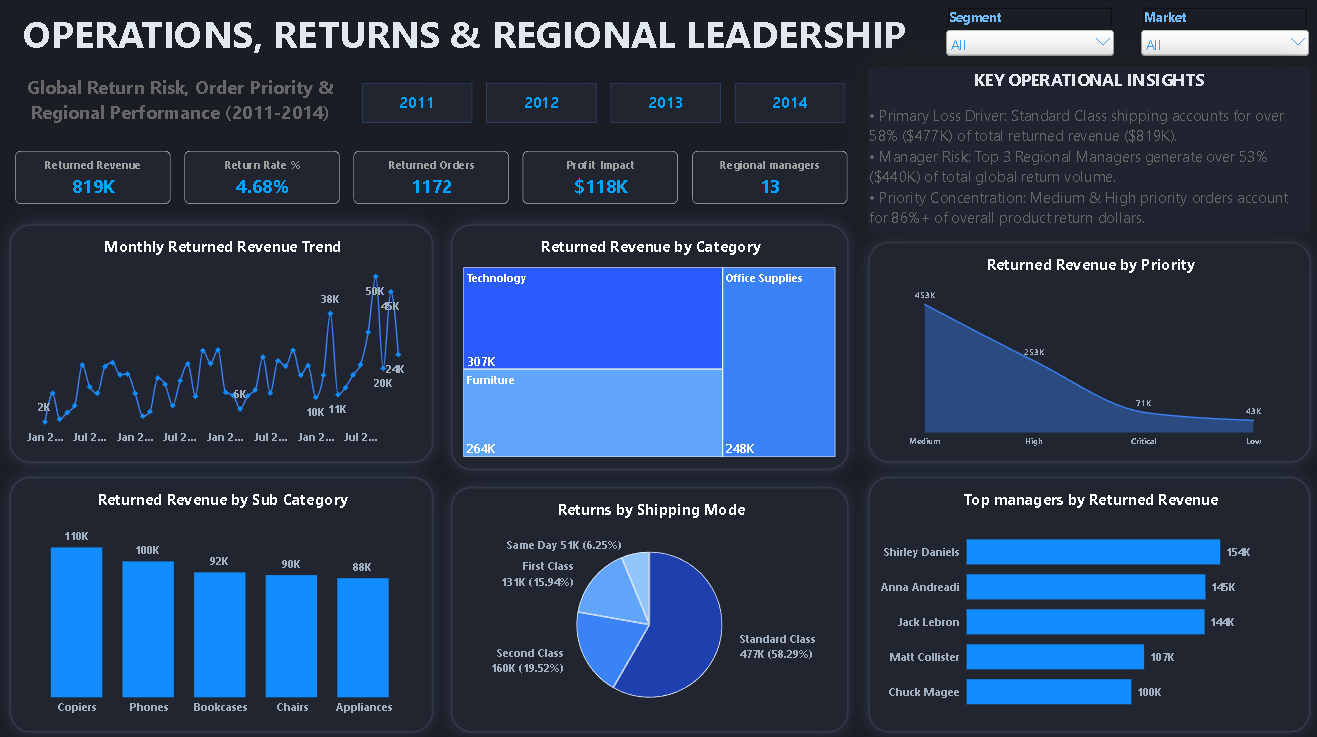

The page's visual inventory and layout, read from the dashboard file:
{"tool":"powerbi","page":{"name":"Operations & Returns","canvas":[1920,1080],"ordinal":1},"visuals":[{"type":"treemap","title":"Returned Revenue by Category ","fields":{"Group":["Orders.Category"],"Values":["Orders.Returned Revenue"]},"box":[656.6,327.3,576.3,356.1],"z":0},{"type":"columnChart","title":"Returned Revenue by Sub Category","fields":{"Category":["Orders.Sub-Category"],"Y":["Orders.Returned Revenue"]},"box":[18.5,693.7,613.4,370.5],"z":1000},{"type":"cardVisual","fields":{"Data":["Orders.Returned Revenue","Orders.Return Rate %","Orders.Total Returned Orders","Orders.Returned Profit Impact","Count(People.Person)"]},"box":[0,197.6,1261.8,127.6],"z":2000},{"type":"slicer","fields":{"Values":["Orders.Market"]},"box":[1635.9,0,284.1,99.5],"z":3000},{"type":"textbox","box":[0,14.5,1353.6,85.1],"z":4000},{"type":"advancedSlicerVisual","fields":{"Values":["Orders.year"]},"box":[512.5,109.1,734.8,88.5],"z":5000},{"type":"textbox","box":[18,110,494.3,110],"z":6000},{"type":"pieChart","title":"Returns by Shipping Mode","fields":{"Category":["Orders.Ship Mode"],"Y":["Orders.Returned Revenue"]},"box":[656.6,708.1,576.3,356.1],"z":7000},{"type":"clusteredBarChart","title":"Top managers by Returned Revenue","fields":{"Category":["People.Person"],"Y":["Orders.Returned Revenue"]},"box":[1261.8,693.7,640.1,370.5],"z":8000},{"type":"slicer","fields":{"Values":["Orders.Segment"]},"box":[1353.6,0,284.1,99.5],"z":9000},{"type":"areaChart","title":"Returned Revenue by Priority","fields":{"Category":["Orders.Order Priority"],"Y":["Orders.Returned Revenue"]},"box":[1261.3,352.9,640.6,320.3],"z":9001},{"type":"lineChart","title":"Monthly Returned Revenue Trend","fields":{"Category":["Orders.Ship Date.Variation.Date Hierarchy.Year","Orders.Ship Date.Variation.Date Hierarchy.Month"],"Y":["Orders.Returned Revenue"]},"box":[18.1,327.5,613.5,345.6],"z":9002},{"type":"textbox","box":[1261.3,99.5,640.6,240.7],"z":9003}]}

Visuals, with their boxes in screenshot pixels (x1, y1, x2, y2), scaled from the page's 1920x1080 canvas onto the 1317x737 screenshot:
"Returned Revenue by Category " treemap: 450/223/846/466
"Returned Revenue by Sub Category" columnChart: 13/473/433/726
cardVisual - Orders.Returned Revenue x Orders.Return Rate %: 0/135/866/222
slicer - Orders.Market: 1122/0/1316/68
textbox: 0/10/928/68
advancedSlicerVisual - Orders.year: 352/74/856/135
textbox: 12/75/351/150
"Returns by Shipping Mode" pieChart: 450/483/846/726
"Top managers by Returned Revenue" clusteredBarChart: 866/473/1305/726
slicer - Orders.Segment: 928/0/1123/68
"Returned Revenue by Priority" areaChart: 865/241/1305/459
"Monthly Returned Revenue Trend" lineChart: 12/223/433/459
textbox: 865/68/1305/232
